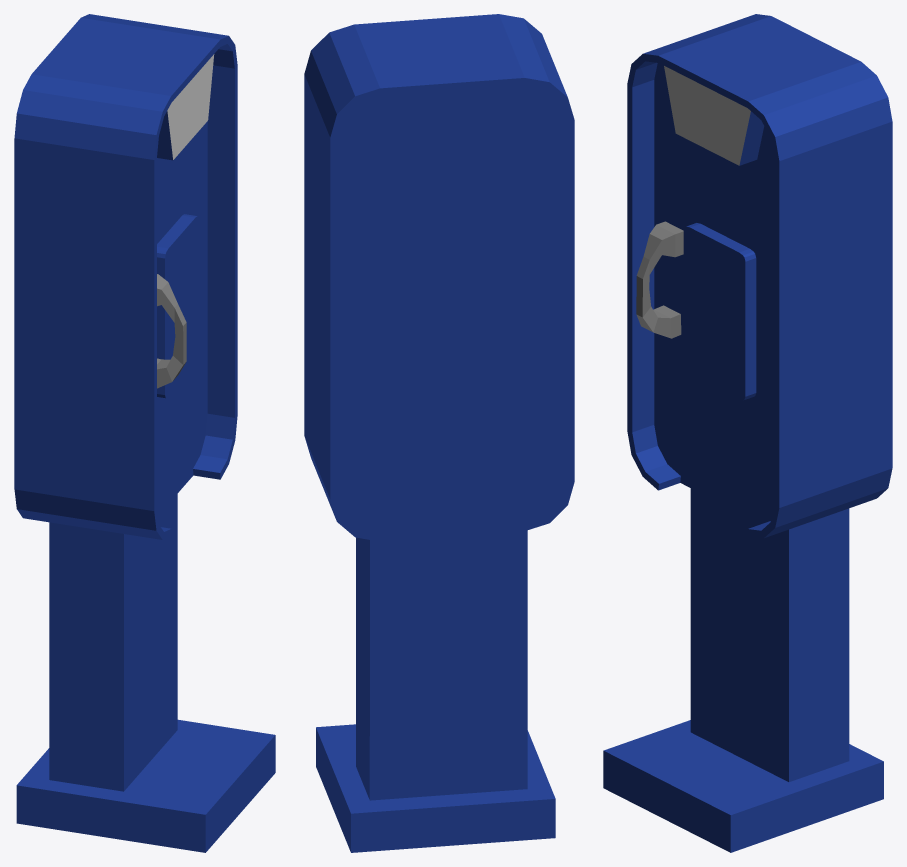
File: Phone.fbx
The picture shows the model from 3 angles, left to right: view 1: azimuth 30°, elevation 25°; view 2: azimuth 150°, elevation 25°; view 3: azimuth 270°, elevation 25°; orthographic projection. The views are drawn at different scales.
Visible parts, largest first — view 1: Phone; view 2: Phone; view 3: Phone.
Part boxes in pixels (x1=…): Phone: x1=14, y1=14, x2=275, y2=852; Phone: x1=304, y1=14, x2=574, y2=852; Phone: x1=603, y1=14, x2=892, y2=852.
Size of the model in its own units: 50.92 by 140 by 50.37.
